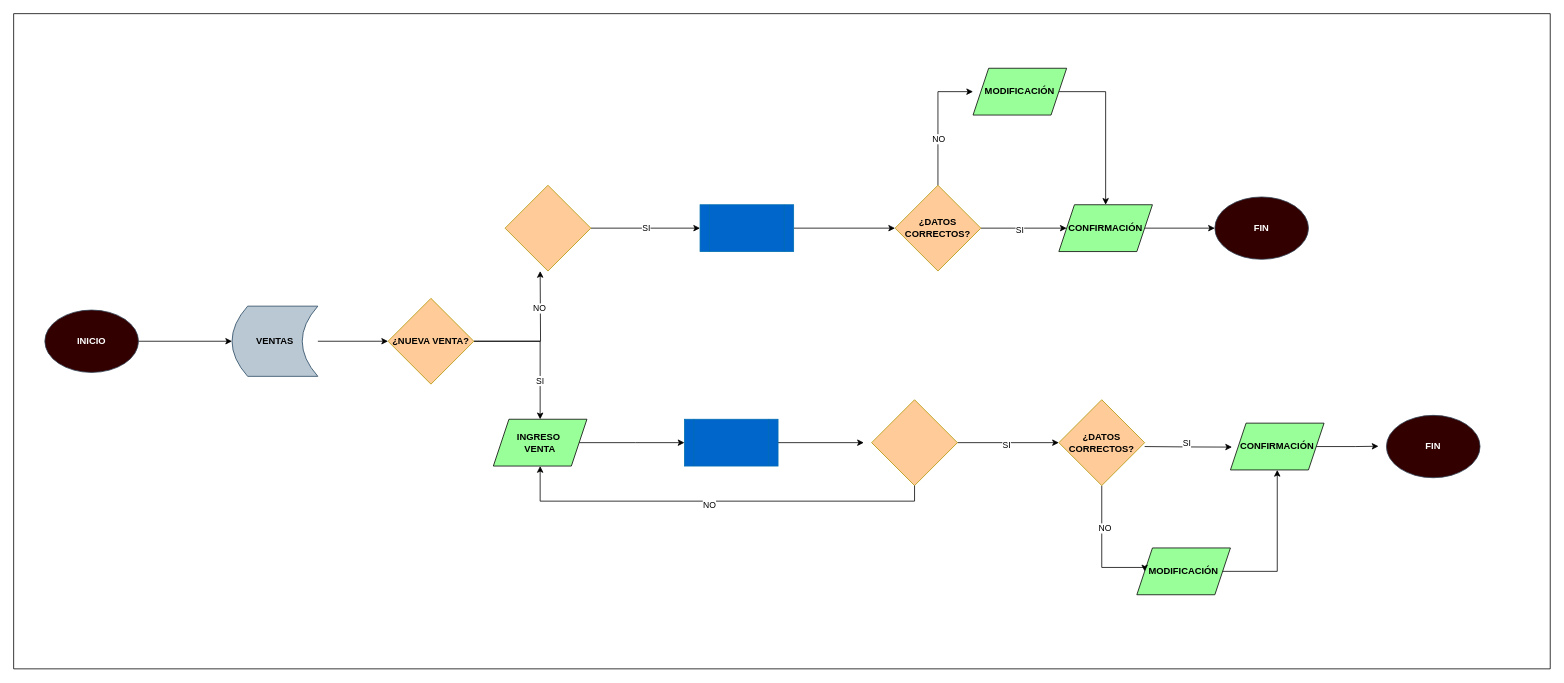
The diagram is 1564 pixels wide and 683 high, and some of its shapes have lost their labels. Here are the shapes that lost their labels. From the top down, the centre of each, then its label:
(x=547, y=227): ¿CARGA AUTOMÁTICA?
(x=746, y=228): CARGA POR OCR
(x=731, y=442): COMANDA
(x=914, y=442): ¿COMANDA COMPLETA?
